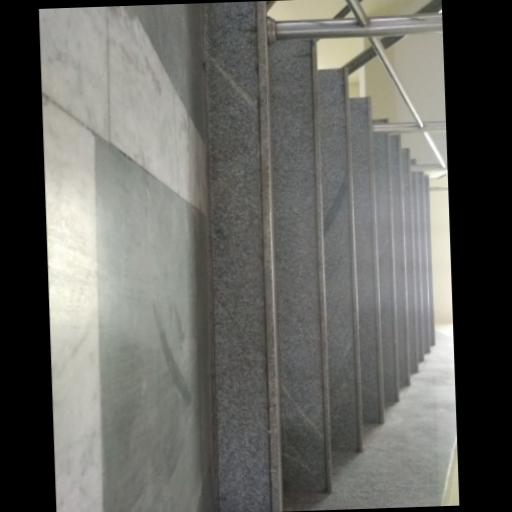stairs: (203, 1, 433, 511)
